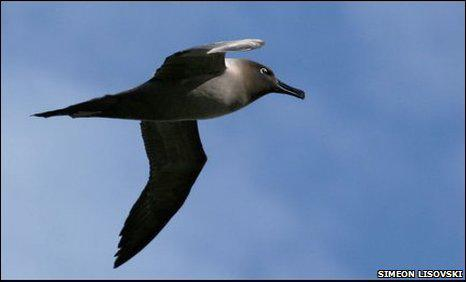003.Sooty_Albatross: (27, 37, 306, 271)
